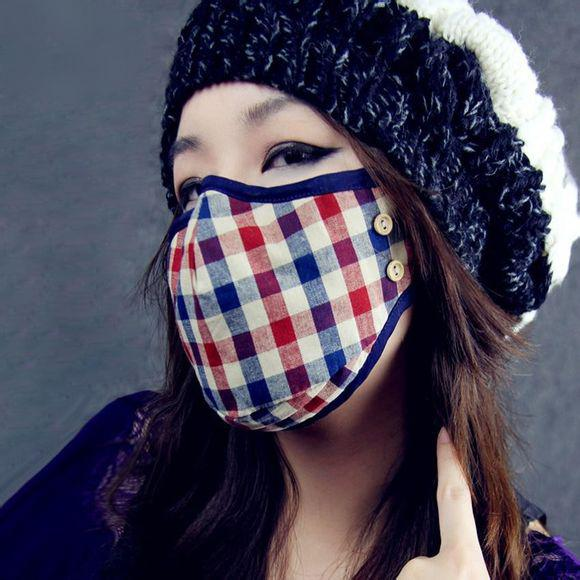OK: (154, 112, 450, 408)
